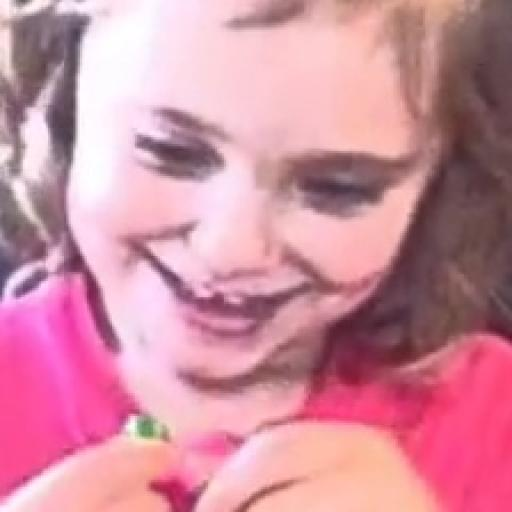Autism: (0, 0, 494, 414)
